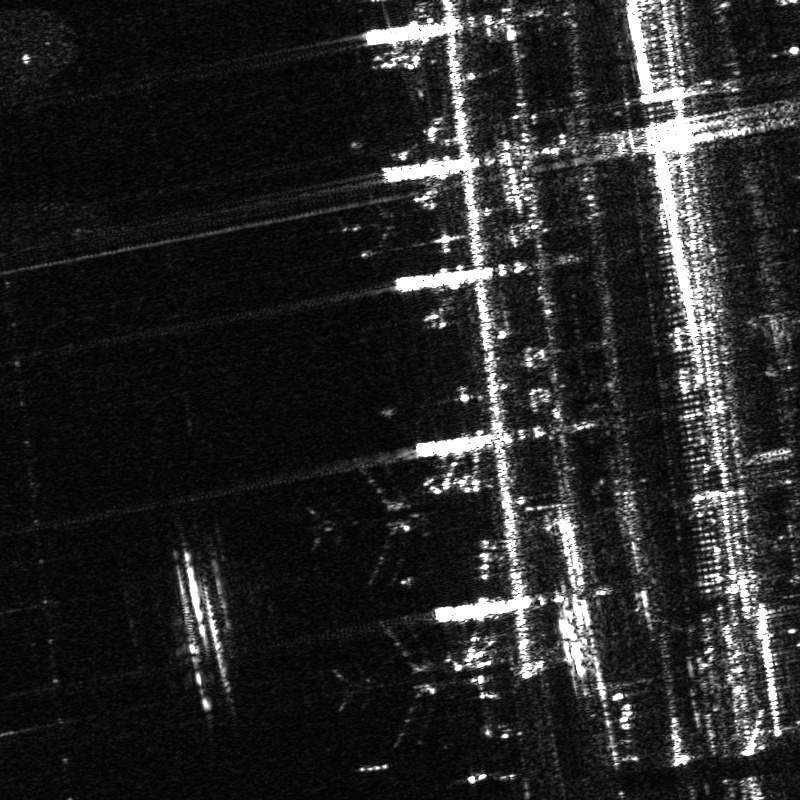A220: (332, 185, 419, 263)
A330: (338, 621, 457, 752)
Boeing787: (307, 464, 428, 590)
